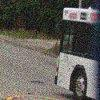buses: (55, 4, 99, 100)
